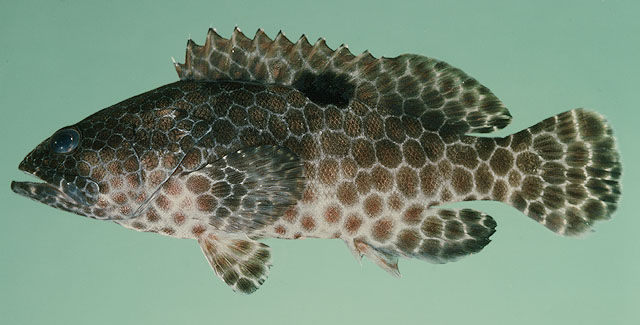fish: (10, 21, 624, 296)
